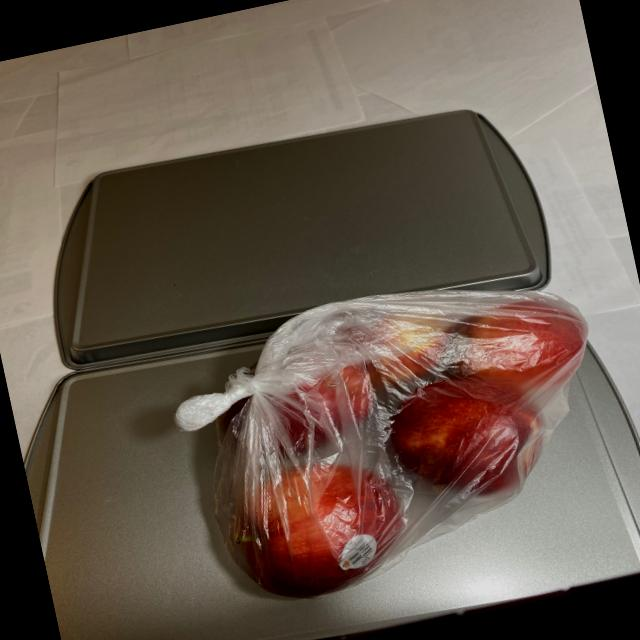apple: (182, 270, 629, 616)
